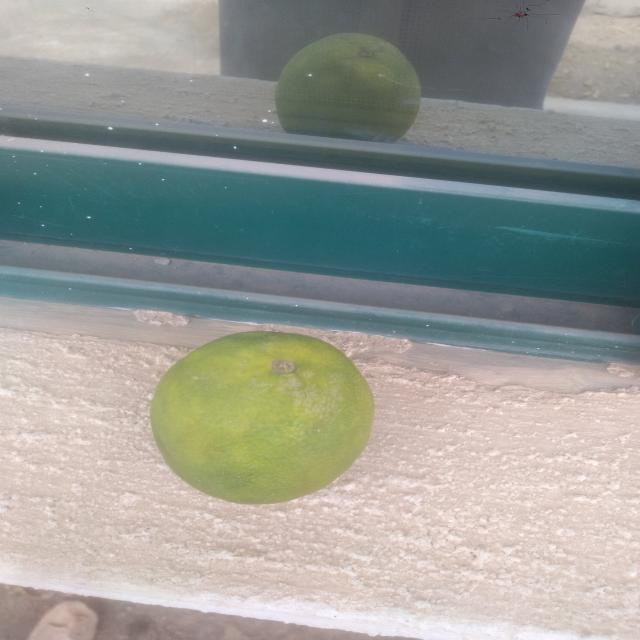agrume: (131, 303, 406, 525)
